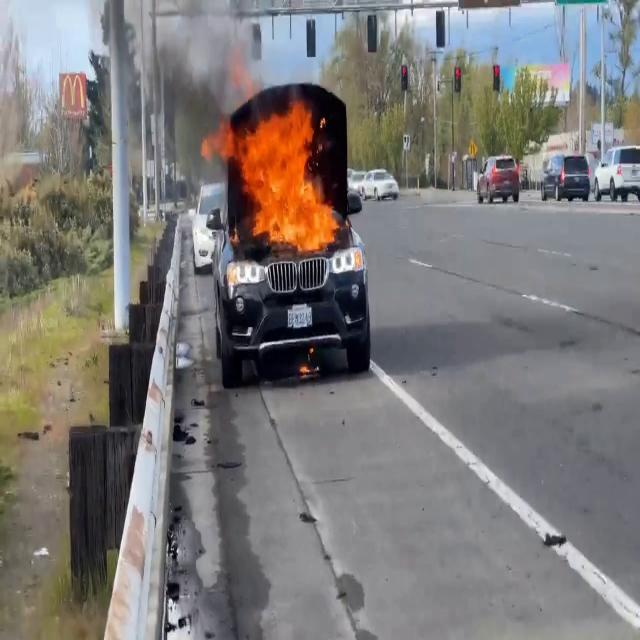Fire: (235, 94, 344, 255)
Smoke: (142, 0, 247, 192)
